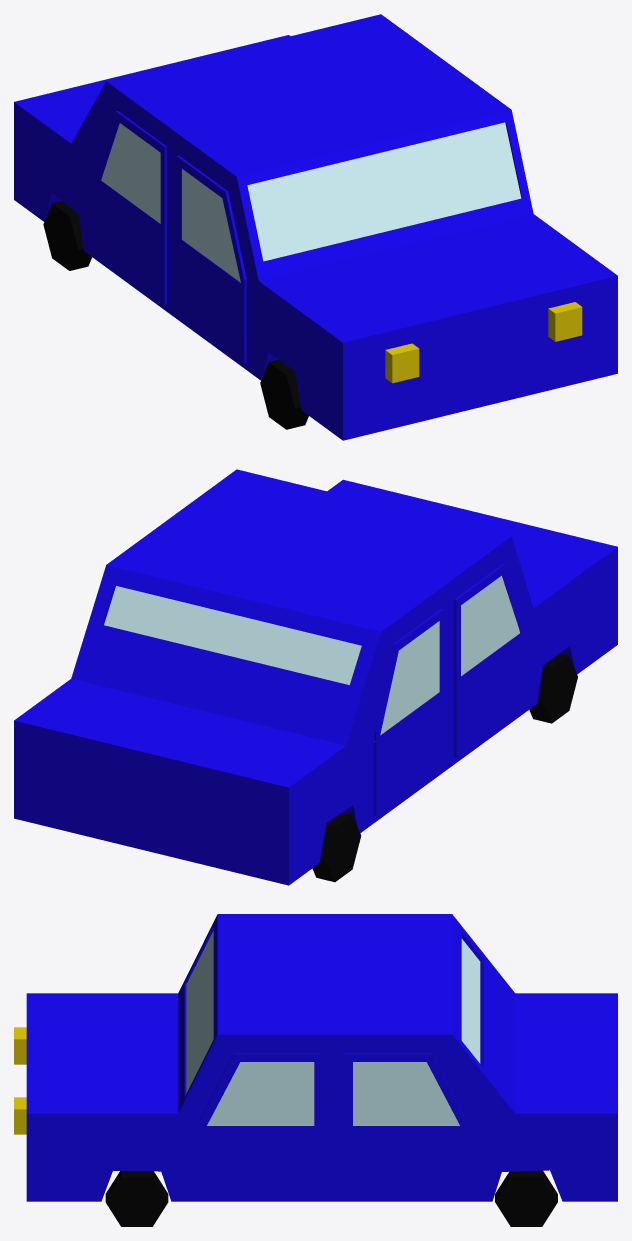
Rendered from Coche  Azul.fbx.
3 views of the same model, one above another, from view 1: azimuth 30°, elevation 25°; view 2: azimuth 150°, elevation 25°; view 3: azimuth 270°, elevation 25° (orthographic). The views are drawn at different scales.
Parts seen in each view (by area): view 1: Cube, Cube.010, Cube.004, Cube.005, Cube.009, Cube.008, Cube.002, Cylinder.002, Cylinder.003; view 2: Cube, Cube.011, Cube.005, Cube.004, Cube.009, Cube.008, Cylinder.003, Cylinder.002; view 3: Cube, Cube.001, Cube.003, Cube.006, Cube.007, Cube.010, Cylinder, Cylinder.001, Cube.011, Cube.002.
Boxes of the visible parts, x1,y1,x2,y2 form: Cube: (14,14,617,440); Cube.010: (247,122,521,261); Cube.004: (176,155,246,363); Cube.005: (97,111,166,304); Cube.009: (101,123,160,223); Cube.008: (182,169,240,282); Cube.002: (385,302,582,383); Cylinder.002: (260,359,308,429); Cylinder.003: (43,201,92,270); Cube: (14,469,617,885); Cube.011: (104,586,361,684); Cube.005: (374,608,443,815); Cube.004: (454,563,523,757); Cube.009: (374,621,439,741); Cube.008: (461,575,519,675); Cylinder.003: (312,812,361,882); Cylinder.002: (529,653,577,723); Cube: (26,914,617,1201); Cube.001: (345,1053,465,1196); Cube.003: (200,1053,321,1195); Cube.006: (207,1062,314,1125); Cube.007: (353,1062,459,1125); Cube.010: (186,931,213,1093); Cylinder: (105,1171,168,1226); Cylinder.001: (495,1170,557,1226); Cube.011: (461,938,480,1063); Cube.002: (14,1027,26,1134).
Size of the model in its own units: 173 by 125 by 358.
